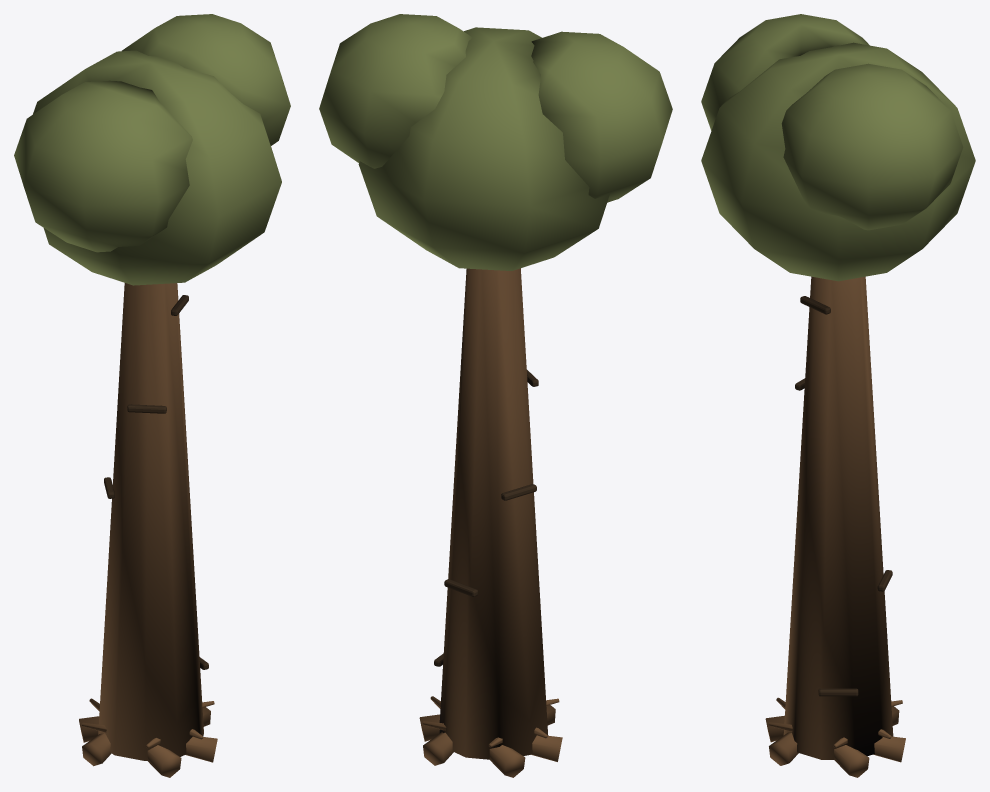
Rendered from prop_hokoragi_a.glb.
3 renders of one model, left to right at view 1: azimuth 30°, elevation 25°; view 2: azimuth 150°, elevation 25°; view 3: azimuth 270°, elevation 25°, orthographic. The views are drawn at different scales.
Visible parts, largest first — view 1: prop_hokoragi_a; view 2: prop_hokoragi_a; view 3: prop_hokoragi_a.
Part boxes in pixels (x1,y1,x2,y2): prop_hokoragi_a: (14, 14, 290, 777); prop_hokoragi_a: (319, 14, 672, 777); prop_hokoragi_a: (701, 14, 975, 777).
Size of the model in its own units: 1.36 by 3.12 by 1.1.
